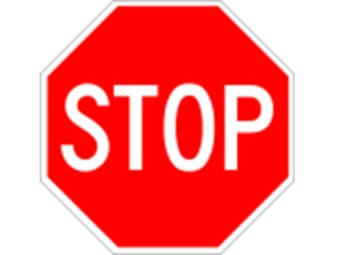SS: (42, 2, 293, 255)
